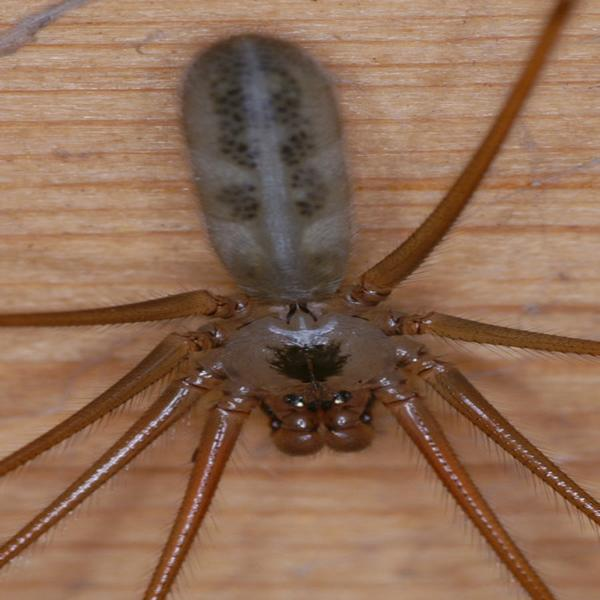Daddy Long Legs Spider: (4, 22, 600, 598)
